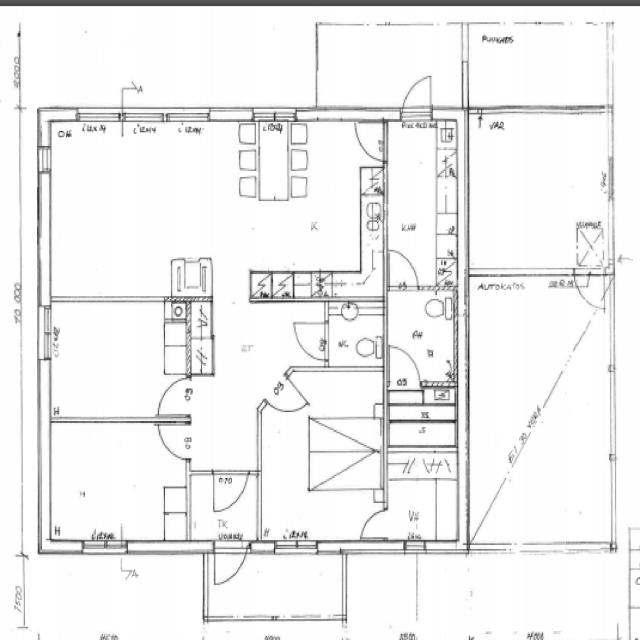door: (210, 464, 251, 516), (290, 316, 332, 365), (399, 71, 435, 124), (385, 342, 423, 391), (211, 539, 248, 589), (272, 371, 312, 415), (154, 376, 193, 420), (385, 245, 421, 292), (353, 118, 388, 166), (155, 419, 191, 462), (356, 506, 391, 544), (574, 268, 594, 307)
window: (36, 302, 55, 366), (272, 537, 320, 558), (75, 106, 123, 126), (206, 105, 254, 125), (252, 104, 299, 124), (79, 538, 128, 557), (165, 107, 212, 126), (122, 109, 166, 127), (36, 144, 53, 180), (314, 540, 345, 558), (403, 536, 427, 556)
zone: (44, 122, 386, 298), (463, 110, 611, 272), (260, 370, 382, 540), (46, 421, 190, 547), (45, 300, 189, 422), (384, 117, 459, 286), (384, 388, 458, 546), (387, 286, 457, 386), (325, 300, 385, 370)
